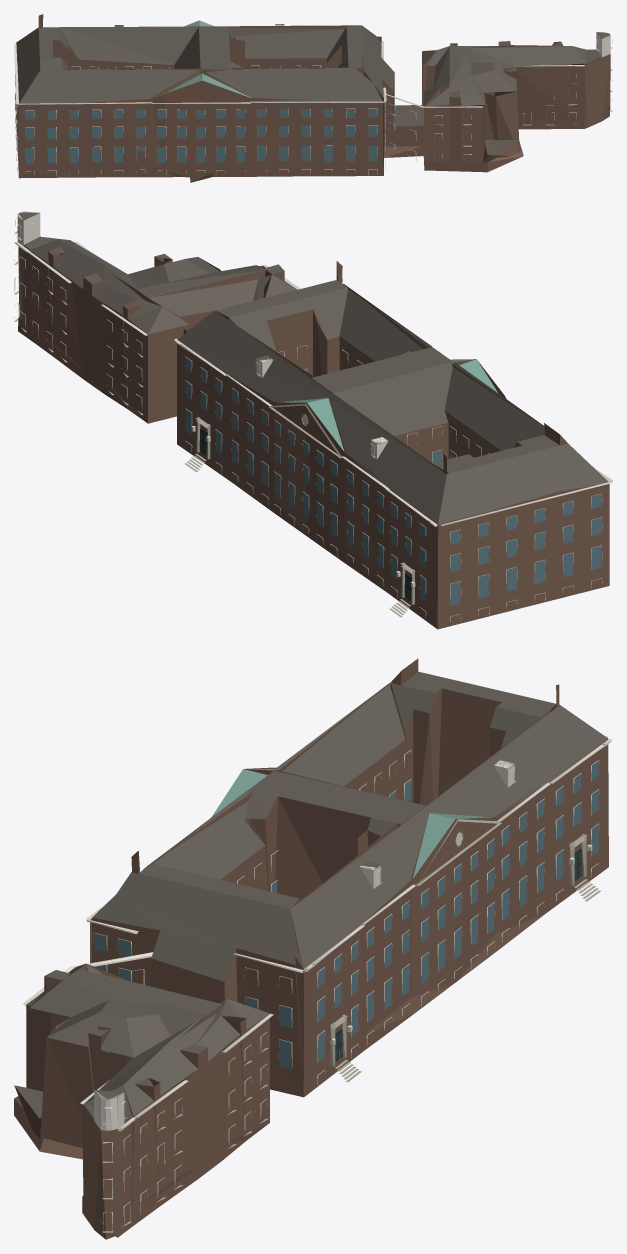
File: luther-museum.lod1.glb
The picture shows the model from 3 angles, top to bottom: view 1: azimuth 30°, elevation 25°; view 2: azimuth 150°, elevation 25°; view 3: azimuth 270°, elevation 25°; orthographic projection. The views are drawn at different scales.
Parts seen in each view (by area): view 1: luther-museum; view 2: luther-museum; view 3: luther-museum.
Boxes of the visible parts, x1=… form: luther-museum: x1=14, y1=14, x2=612, y2=182; luther-museum: x1=14, y1=211, x2=612, y2=629; luther-museum: x1=14, y1=658, x2=612, y2=1239.
Size of the model in its own units: 110 by 23.03 by 65.15.
